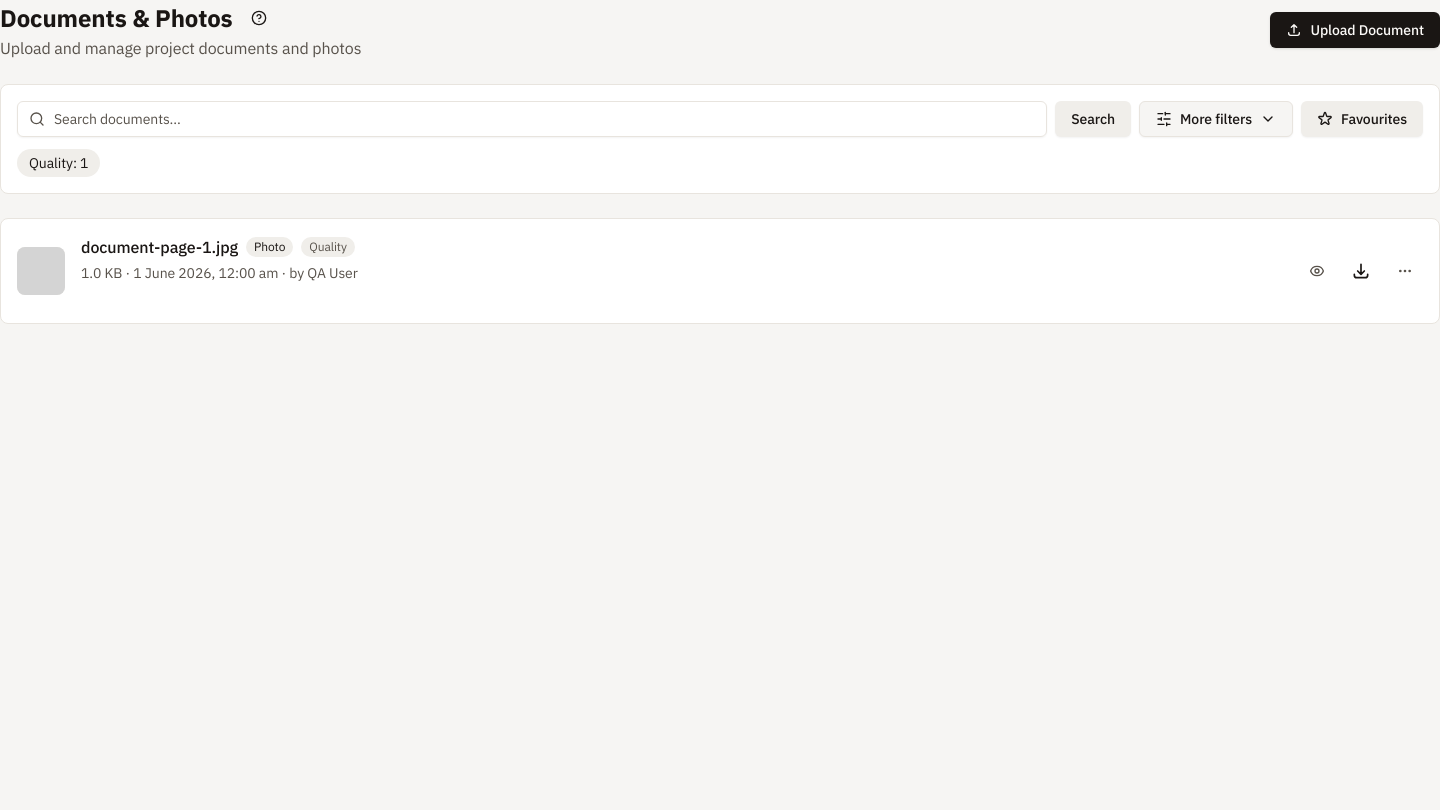
Test case: DocumentsPage › ignores stale signed viewer URL responses after the viewer closes
Expected: the text "document-page-1.jpg" is shown, [81,235,238,259]
Click the button named "View document-page-1.jpg": {"x": 1317, "y": 271} [1299,253,1335,289]
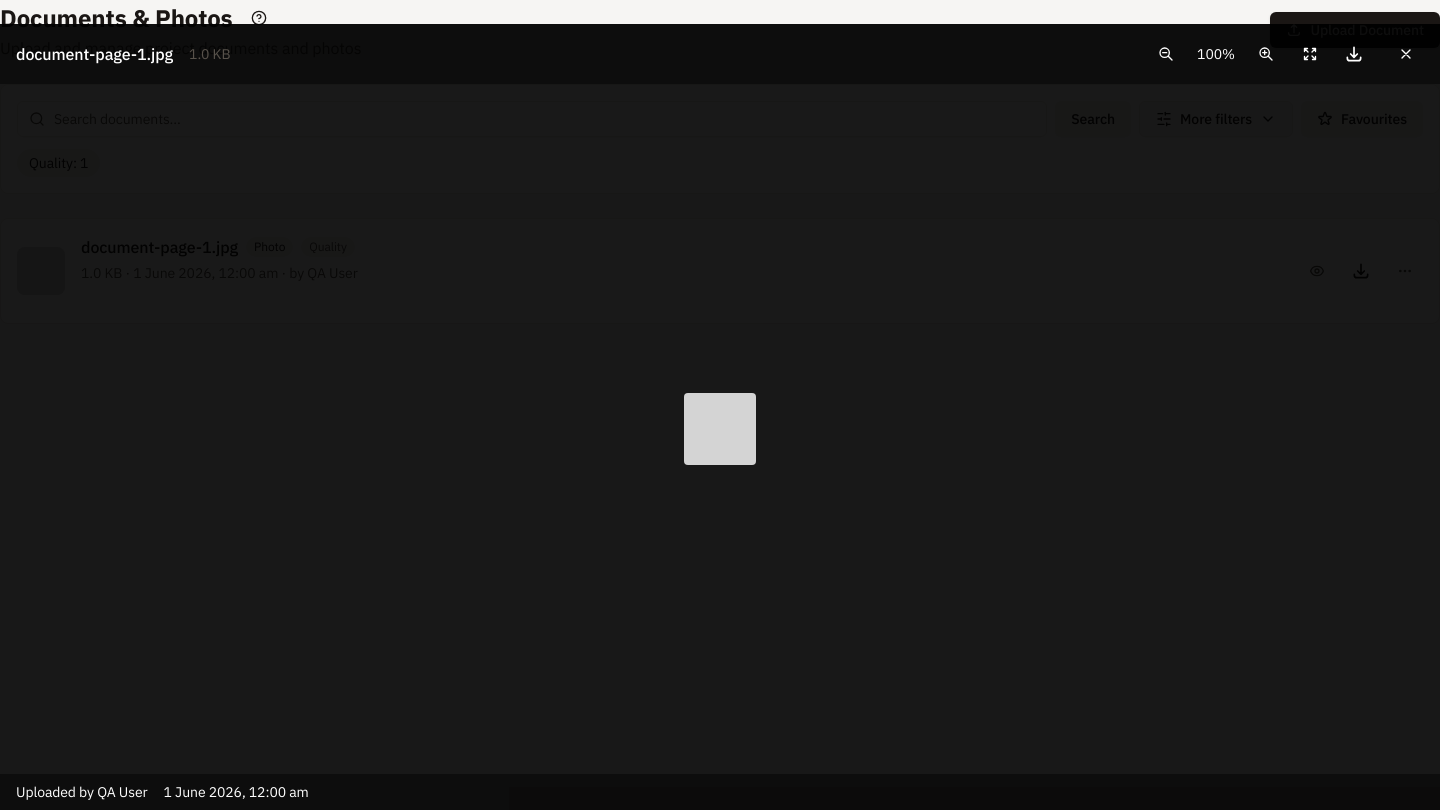
Expected: the element with test id "document-viewer-modal" is shown
Click the button named "Close": {"x": 1406, "y": 54} [1388,36,1424,72]
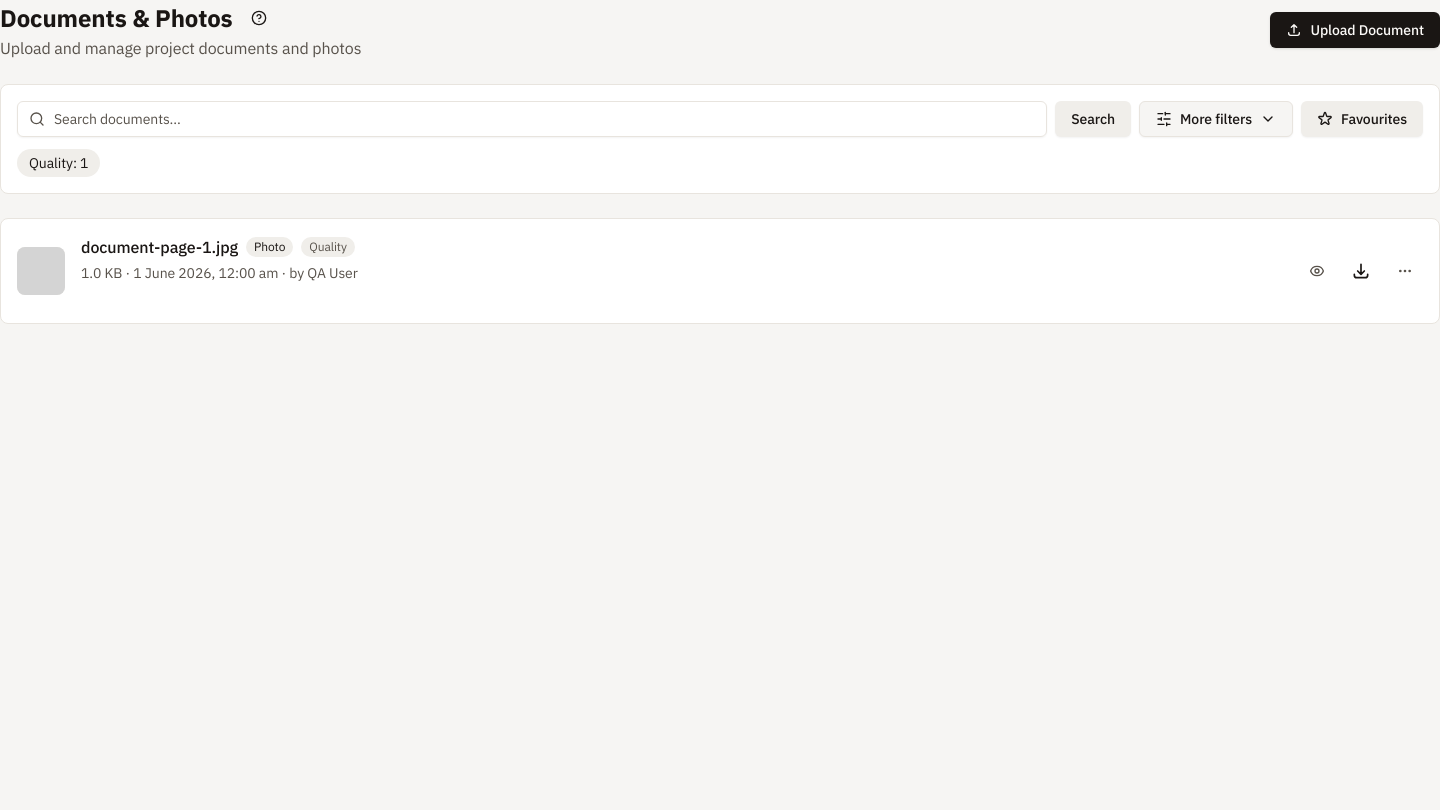
Expected: the element with test id "document-viewer-modal" is gone
